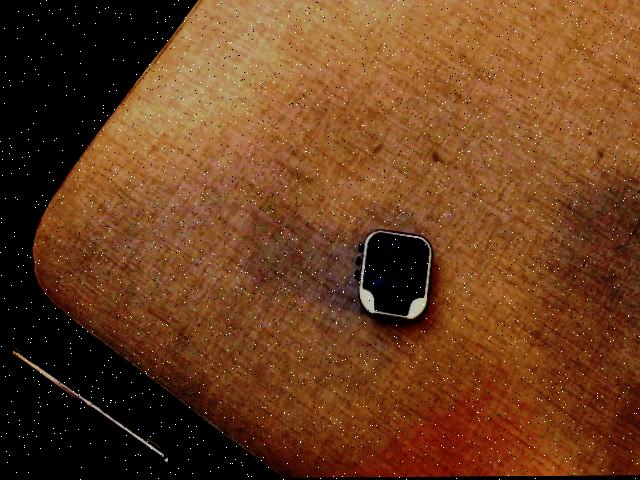adapter: (350, 229, 432, 323)
